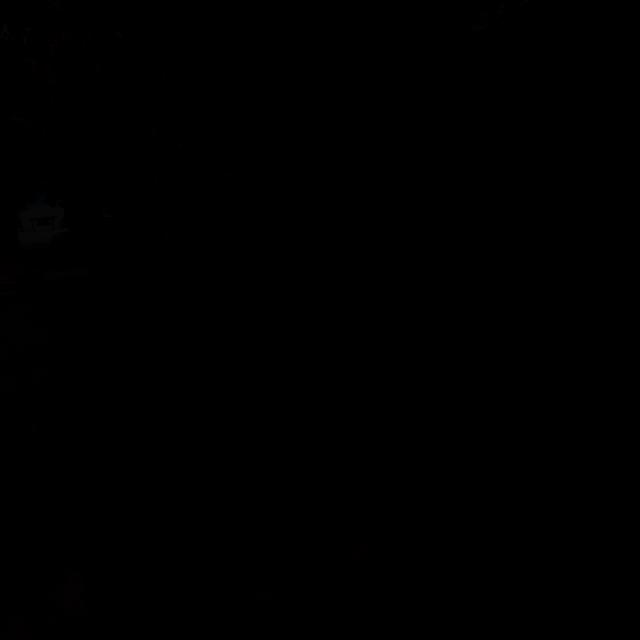empty: (183, 352, 611, 605), (139, 292, 366, 363), (126, 265, 325, 329), (470, 246, 615, 289), (183, 230, 255, 244), (230, 223, 301, 237), (148, 234, 205, 251)
occupied: (420, 156, 560, 265), (8, 183, 82, 272), (81, 178, 149, 260)
